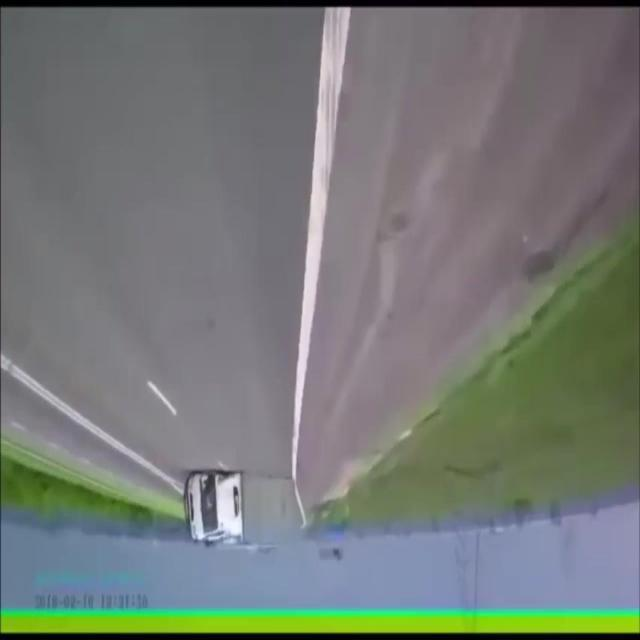severe: (183, 463, 301, 555)
